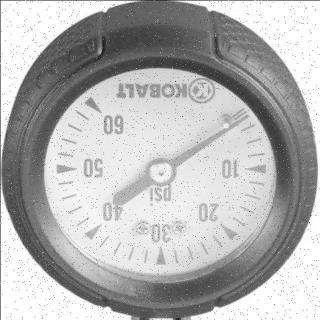gauge: (25, 39, 312, 309), (83, 92, 127, 138), (219, 102, 251, 133), (144, 157, 176, 187), (234, 110, 253, 125)
